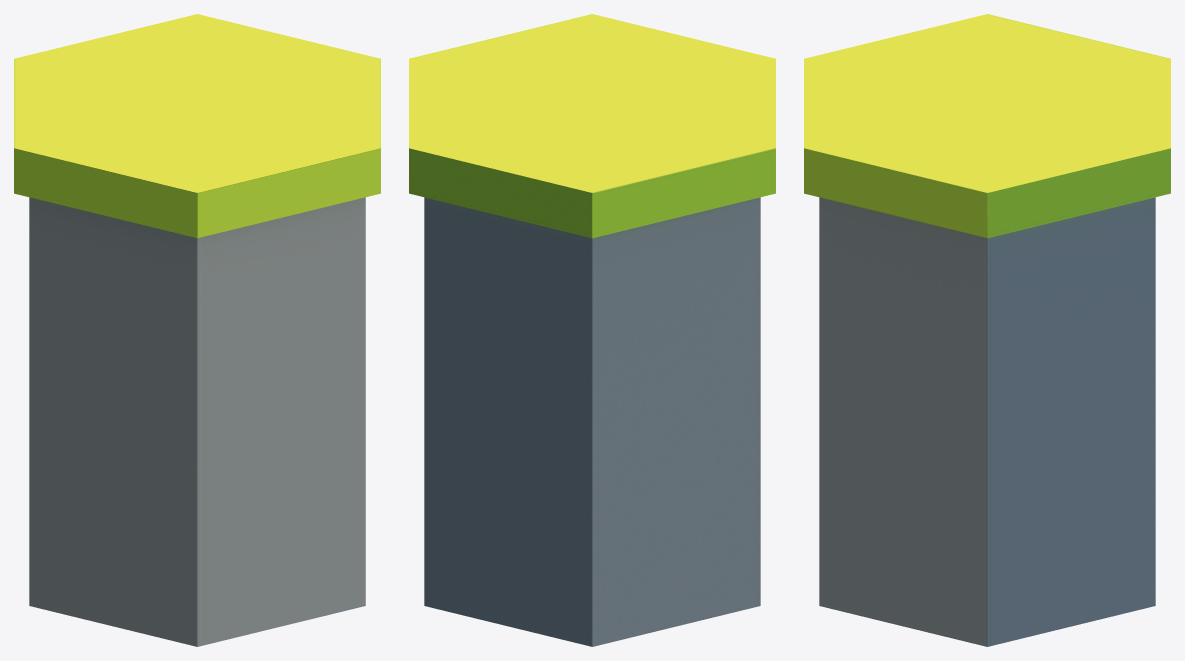
Rendered from mountain.glb.
3 renders of one model, left to right at view 1: azimuth 30°, elevation 25°; view 2: azimuth 150°, elevation 25°; view 3: azimuth 270°, elevation 25°, orthographic.
Parts seen in each view (by area): view 1: mountain_1; view 2: mountain_1; view 3: mountain_1.
Boxes of the visible parts, x1,y1,x2,y2 form: mountain_1: (14, 14, 380, 646); mountain_1: (409, 14, 775, 646); mountain_1: (804, 14, 1170, 646).
Size of the model in its own units: 13.74 by 16.52 by 11.9.
Materials: 1 (1 with a texture image).
